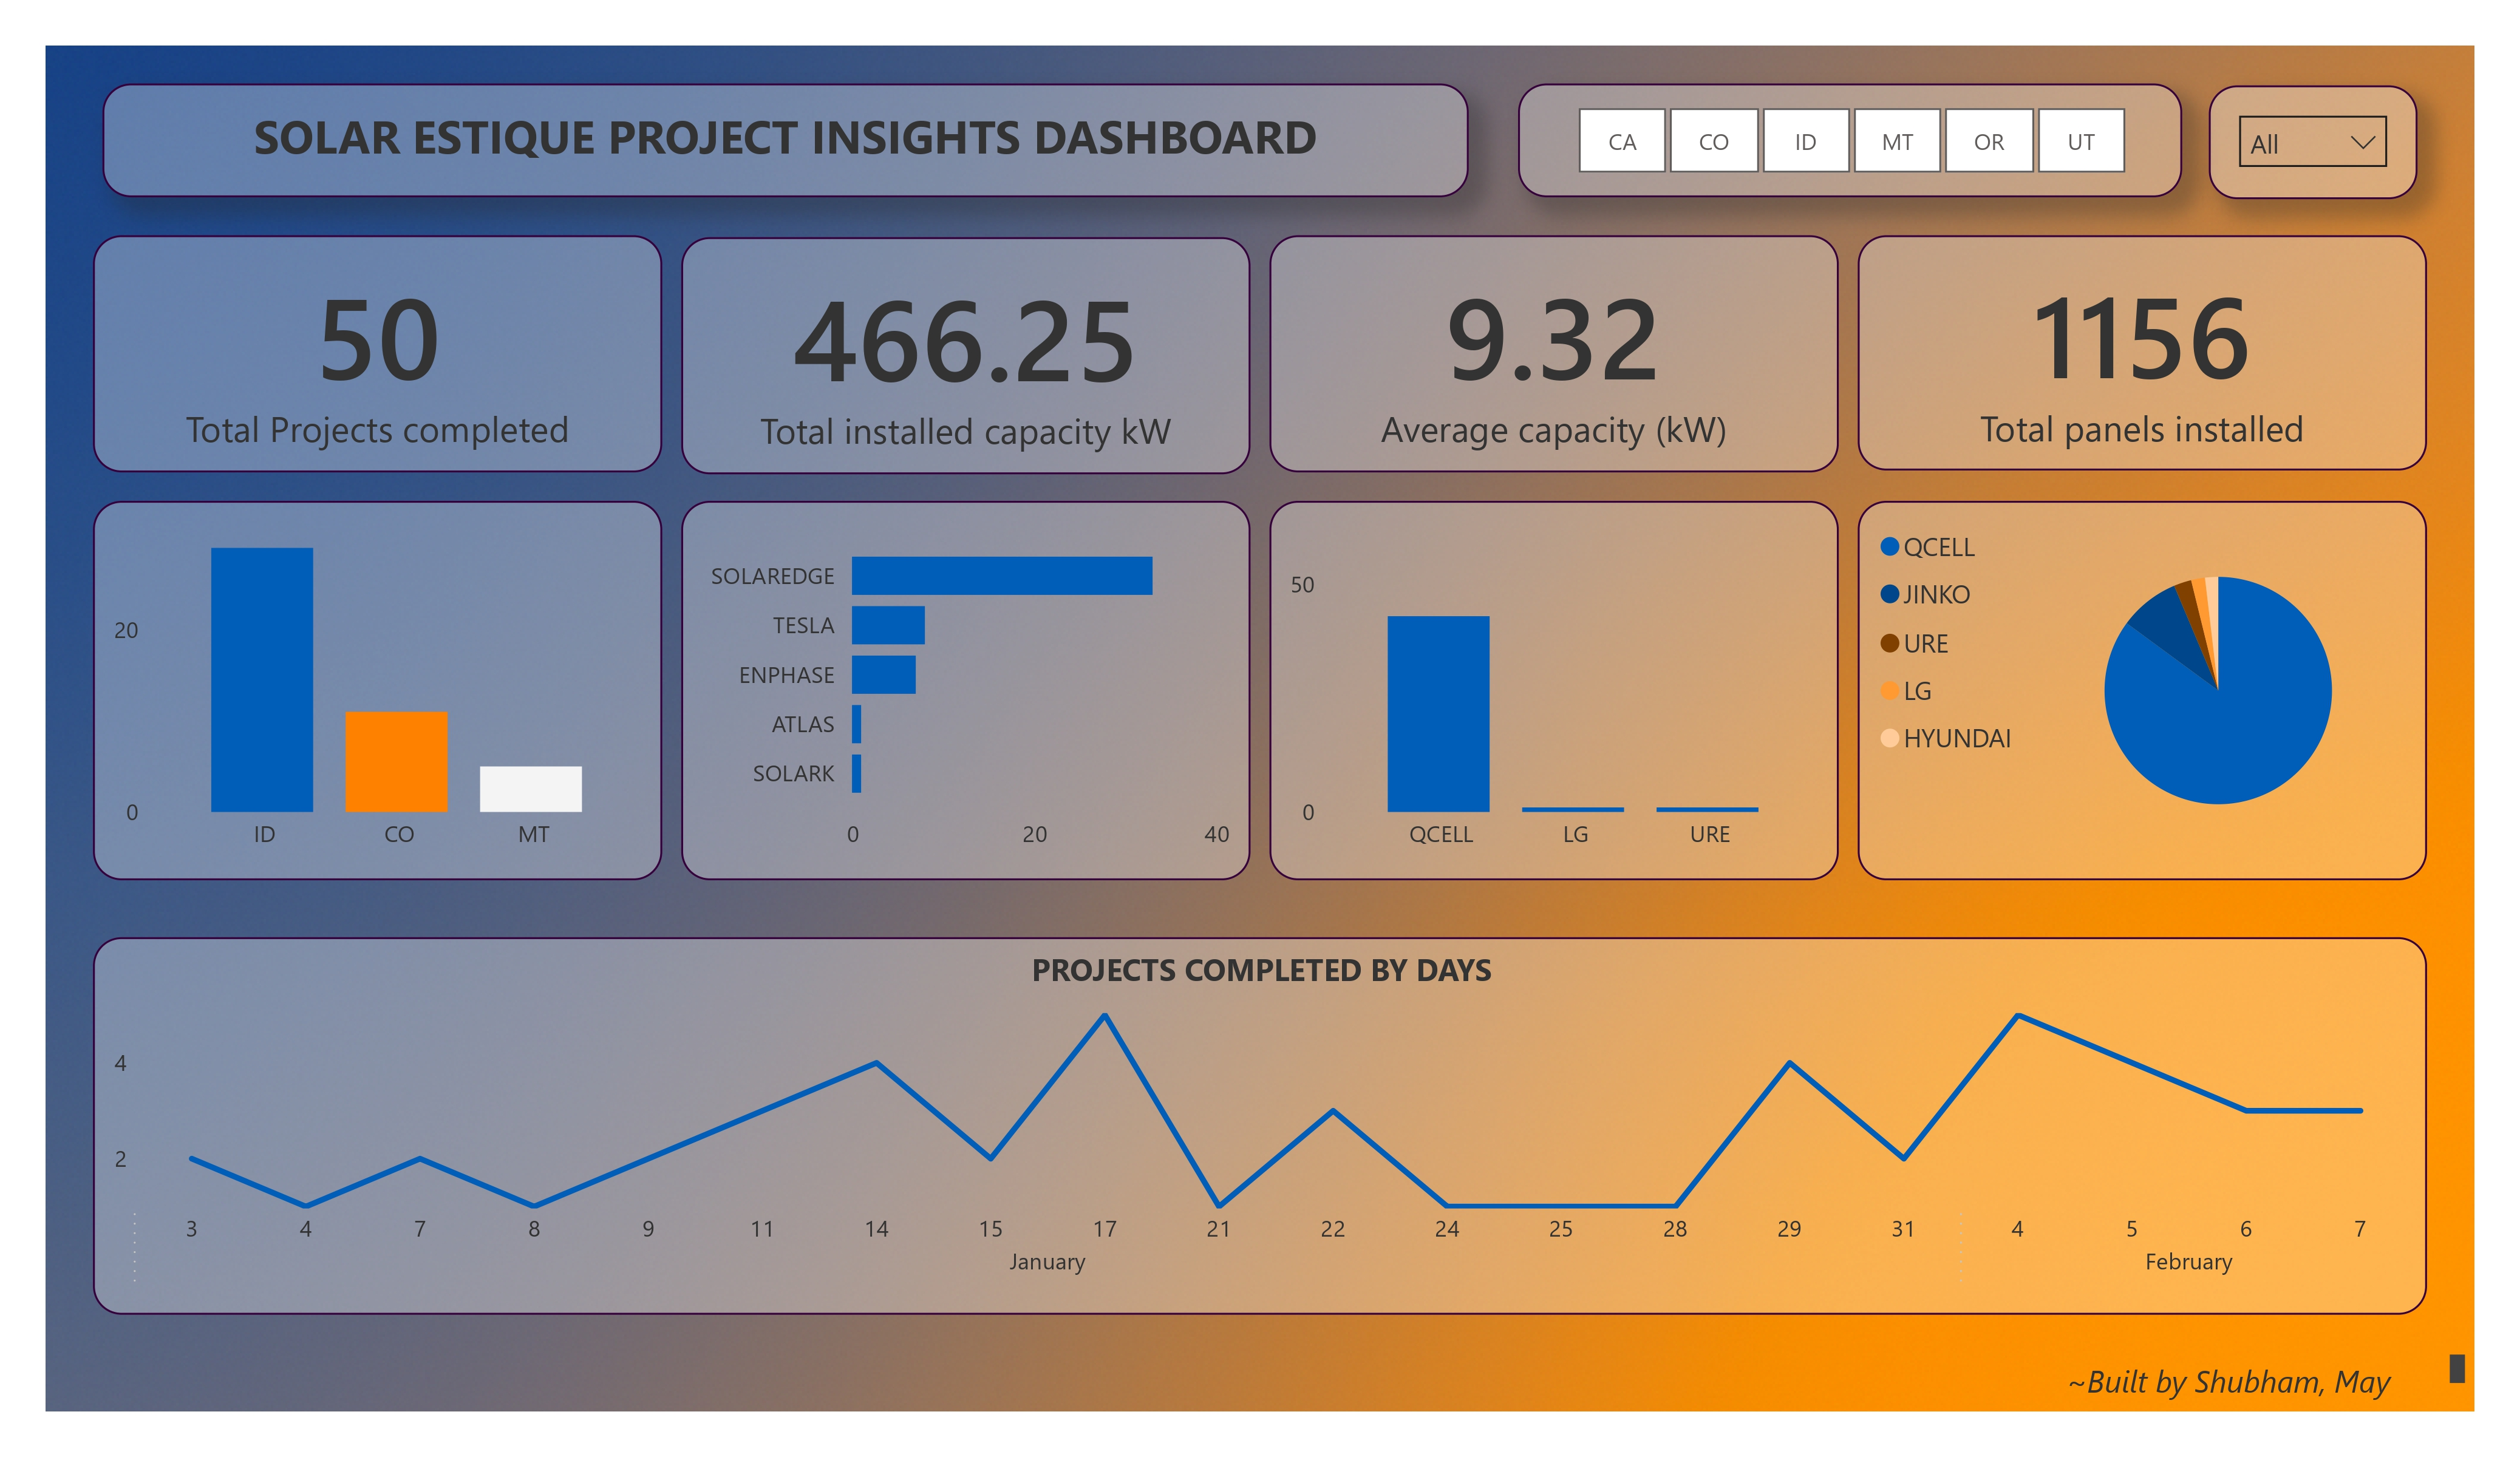

Layout of this report page (visuals, bound fields, positions):
{"tool":"powerbi","page":{"name":"Page 1","canvas":[1280,720],"ordinal":0},"visuals":[{"type":"card","fields":{"Values":["CountNonNull(Table1.client_name)"]},"box":[25,100,300,125],"z":0},{"type":"card","fields":{"Values":["Avg(Table1.capacity_kw)"]},"box":[645,100,300,125],"z":1000},{"type":"card","fields":{"Values":["Sum(Table1.capacity_kw)"]},"box":[335,100.6,300,125],"z":2000},{"type":"card","fields":{"Values":["Sum(Table1.no_of_panels)"]},"box":[955,100,299.9,124.3],"z":3000},{"type":"textbox","box":[30,20,720,60],"z":4000},{"type":"columnChart","title":"Profit by Month","fields":{"Category":["Table1.state"],"Y":["CountNonNull(Table1.client_name)"]},"box":[25,240,300,200],"z":5000},{"type":"clusteredBarChart","title":"Profit by Month","fields":{"Category":["Table1.inverter_brand"],"Y":["CountNonNull(Table1.state)"]},"box":[335,240,300,200],"z":5001},{"type":"columnChart","title":"Profit by Month","fields":{"Category":["Table1.panel_brand"],"Y":["Divide(CountNonNull(Table1.state), ScopedEval(CountNonNull(Table1.state), []))"]},"box":[645,240,300,200],"z":5002},{"type":"lineChart","title":"PROJECTS COMPLETED BY DAYS","fields":{"Y":["CountNonNull(Table1.client_name)"],"Category":["Table1.date.Variation.Date Hierarchy.Month","Table1.date.Variation.Date Hierarchy.Day"]},"box":[25.1,470.4,1229.9,199.1],"z":5003},{"type":"pieChart","fields":{"Category":["Table1.panel_brand"],"Y":["Sum(Table1.no_of_panels)"]},"box":[955,240,300,200],"z":5004},{"type":"slicer","fields":{"Values":["Table1.state"]},"box":[775.7,20,350,60.5],"z":5005},{"type":"slicer","fields":{"Values":["Table1.utility"]},"box":[1140,20.6,110,60.5],"z":5006},{"type":"textbox","box":[1060,685,220,35],"z":5007}]}

Visuals, with their boxes in screenshot pixels (x1, y1, x2, y2):
card - CountNonNull(Table1.client_name): {"x1": 93, "y1": 236, "x2": 662, "y2": 472}
card - Avg(Table1.capacity_kw): {"x1": 1270, "y1": 236, "x2": 1839, "y2": 472}
card - Sum(Table1.capacity_kw): {"x1": 681, "y1": 236, "x2": 1250, "y2": 474}
card - Sum(Table1.no_of_panels): {"x1": 1858, "y1": 236, "x2": 2427, "y2": 471}
textbox: {"x1": 103, "y1": 84, "x2": 1469, "y2": 197}
"Profit by Month" columnChart: {"x1": 93, "y1": 501, "x2": 662, "y2": 880}
"Profit by Month" clusteredBarChart: {"x1": 681, "y1": 501, "x2": 1250, "y2": 880}
"Profit by Month" columnChart: {"x1": 1270, "y1": 501, "x2": 1839, "y2": 880}
"PROJECTS COMPLETED BY DAYS" lineChart: {"x1": 93, "y1": 938, "x2": 2427, "y2": 1316}
pieChart - Table1.panel_brand x Sum(Table1.no_of_panels): {"x1": 1858, "y1": 501, "x2": 2427, "y2": 880}
slicer - Table1.state: {"x1": 1517, "y1": 84, "x2": 2182, "y2": 199}
slicer - Table1.utility: {"x1": 2209, "y1": 84, "x2": 2417, "y2": 199}
textbox: {"x1": 2057, "y1": 1345, "x2": 2474, "y2": 1411}
